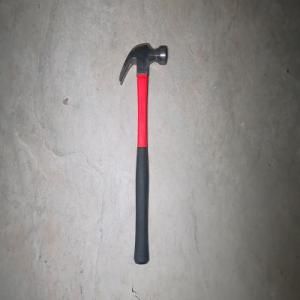Hammer: (118, 41, 167, 265)
